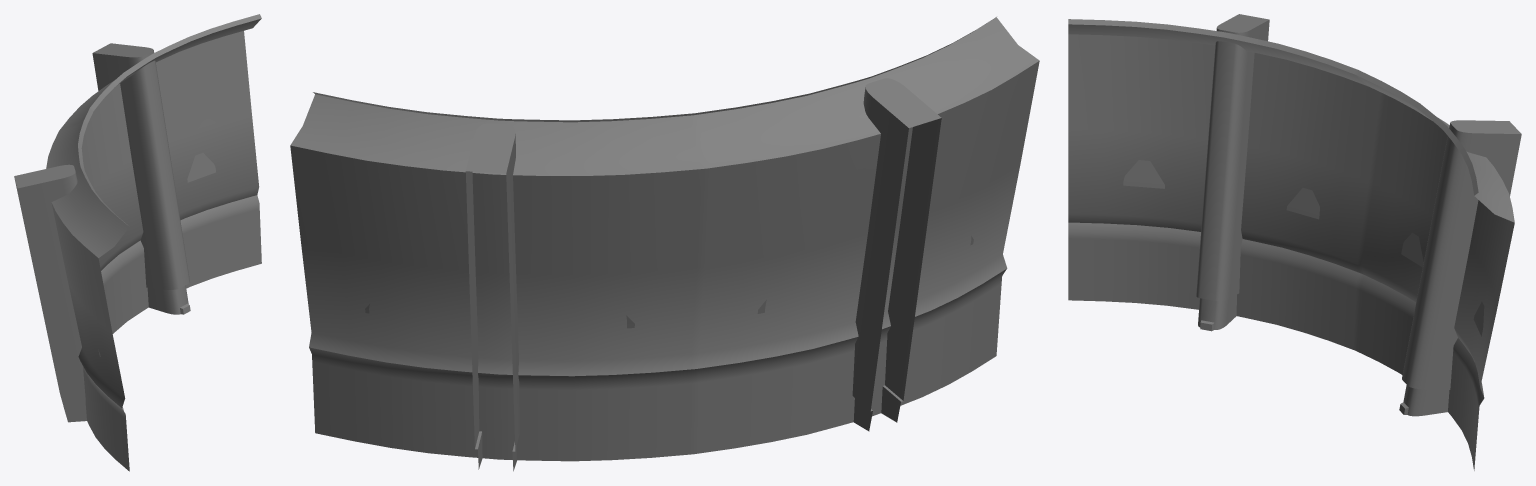
File: q-scifi-mod-wallastra-corner-round-inner.glb
3 renders of one model, left to right at view 1: azimuth 30°, elevation 25°; view 2: azimuth 150°, elevation 25°; view 3: azimuth 270°, elevation 25°, orthographic. The views are drawn at different scales.
Visible parts, largest first — view 1: WallAstra_Corner_Round_Inner; view 2: WallAstra_Corner_Round_Inner; view 3: WallAstra_Corner_Round_Inner.
Boxes of the visible parts, x1,y1,x2,y2 form: WallAstra_Corner_Round_Inner: (14,14,261,471); WallAstra_Corner_Round_Inner: (290,17,1039,471); WallAstra_Corner_Round_Inner: (1068,14,1521,470).
Bounding box in the file's own units: 4.47 × 3.04 × 4.47.
Materials: 5 (5 with a texture image).
